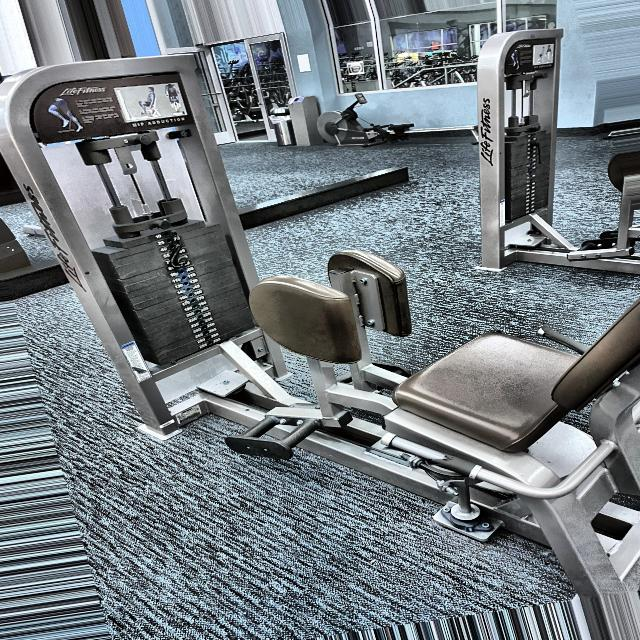hip_adduction_machine: (220, 168, 635, 580), (239, 232, 439, 489), (48, 82, 206, 134), (129, 116, 194, 128)
